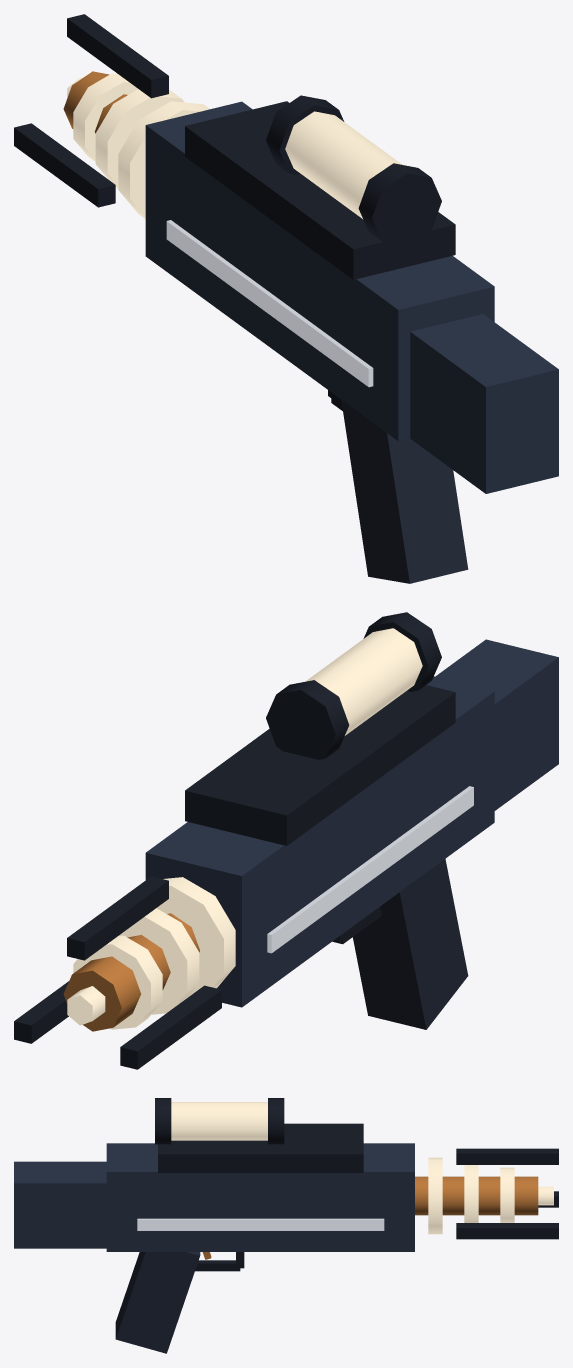
The model's file is BO_SK_Weapon_Beam_v001.glb.
3 views of the same model, one above another, from view 1: azimuth 30°, elevation 25°; view 2: azimuth 150°, elevation 25°; view 3: azimuth 270°, elevation 25° (orthographic). The views are drawn at different scales.
Parts seen in each view (by area): view 1: body_000, body_017, body_001, body_013, glowfx_010, body_011, glowfx_019, body_006, body_007, glowfx_004, glowfx_003, glowfx_005 (+2 smaller); view 2: body_000, body_001, body_013, body_017, glowfx_010, body_012, glowfx_019, glowfx_003, body_002, glowfx_004, body_007, body_006 (+4 smaller); view 3: body_000, body_017, body_001, body_013, glowfx_010, body_002, glowfx_018, body_006, body_008, glowfx_003, glowfx_004, glowfx_005 (+3 smaller).
Boxes of the visible parts, x1,y1,x2,y2 form: body_000: [145, 101, 494, 441]; body_017: [410, 314, 558, 493]; body_001: [185, 101, 455, 279]; body_013: [341, 400, 468, 583]; glowfx_010: [285, 111, 402, 218]; body_011: [358, 163, 441, 246]; glowfx_019: [166, 220, 373, 387]; body_006: [67, 14, 168, 98]; body_007: [14, 123, 115, 207]; glowfx_004: [95, 89, 184, 188]; glowfx_003: [118, 101, 209, 218]; glowfx_005: [73, 73, 137, 161]; body_000: [145, 676, 494, 1007]; body_001: [185, 685, 455, 845]; body_013: [352, 859, 468, 1029]; body_017: [435, 639, 558, 810]; glowfx_010: [305, 628, 422, 735]; body_012: [266, 680, 349, 759]; glowfx_019: [267, 786, 473, 953]; glowfx_003: [157, 877, 235, 997]; body_002: [63, 913, 199, 1031]; glowfx_004: [118, 908, 199, 1014]; body_007: [120, 985, 221, 1069]; body_006: [67, 876, 168, 960]; body_000: [106, 1143, 414, 1251]; body_017: [14, 1161, 106, 1248]; body_001: [158, 1123, 363, 1172]; body_013: [115, 1252, 200, 1353]; glowfx_010: [171, 1102, 267, 1140]; body_002: [415, 1176, 538, 1215]; glowfx_018: [137, 1218, 384, 1230]; body_006: [456, 1148, 558, 1164]; body_008: [456, 1223, 558, 1239]; glowfx_003: [428, 1157, 442, 1234]; glowfx_004: [464, 1165, 478, 1222]; glowfx_005: [500, 1167, 514, 1222].
Bounding box in the file's own units: 0.0847 × 0.2642 × 0.53.
